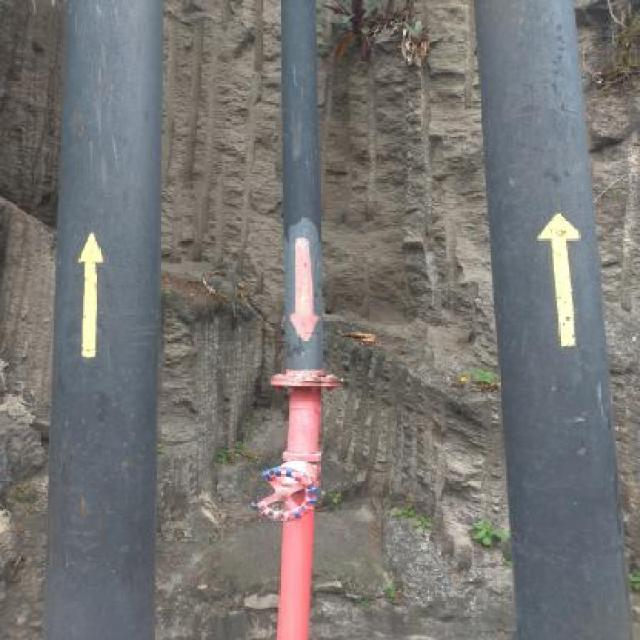gas: (473, 0, 635, 640), (45, 2, 163, 637), (277, 0, 318, 640)
